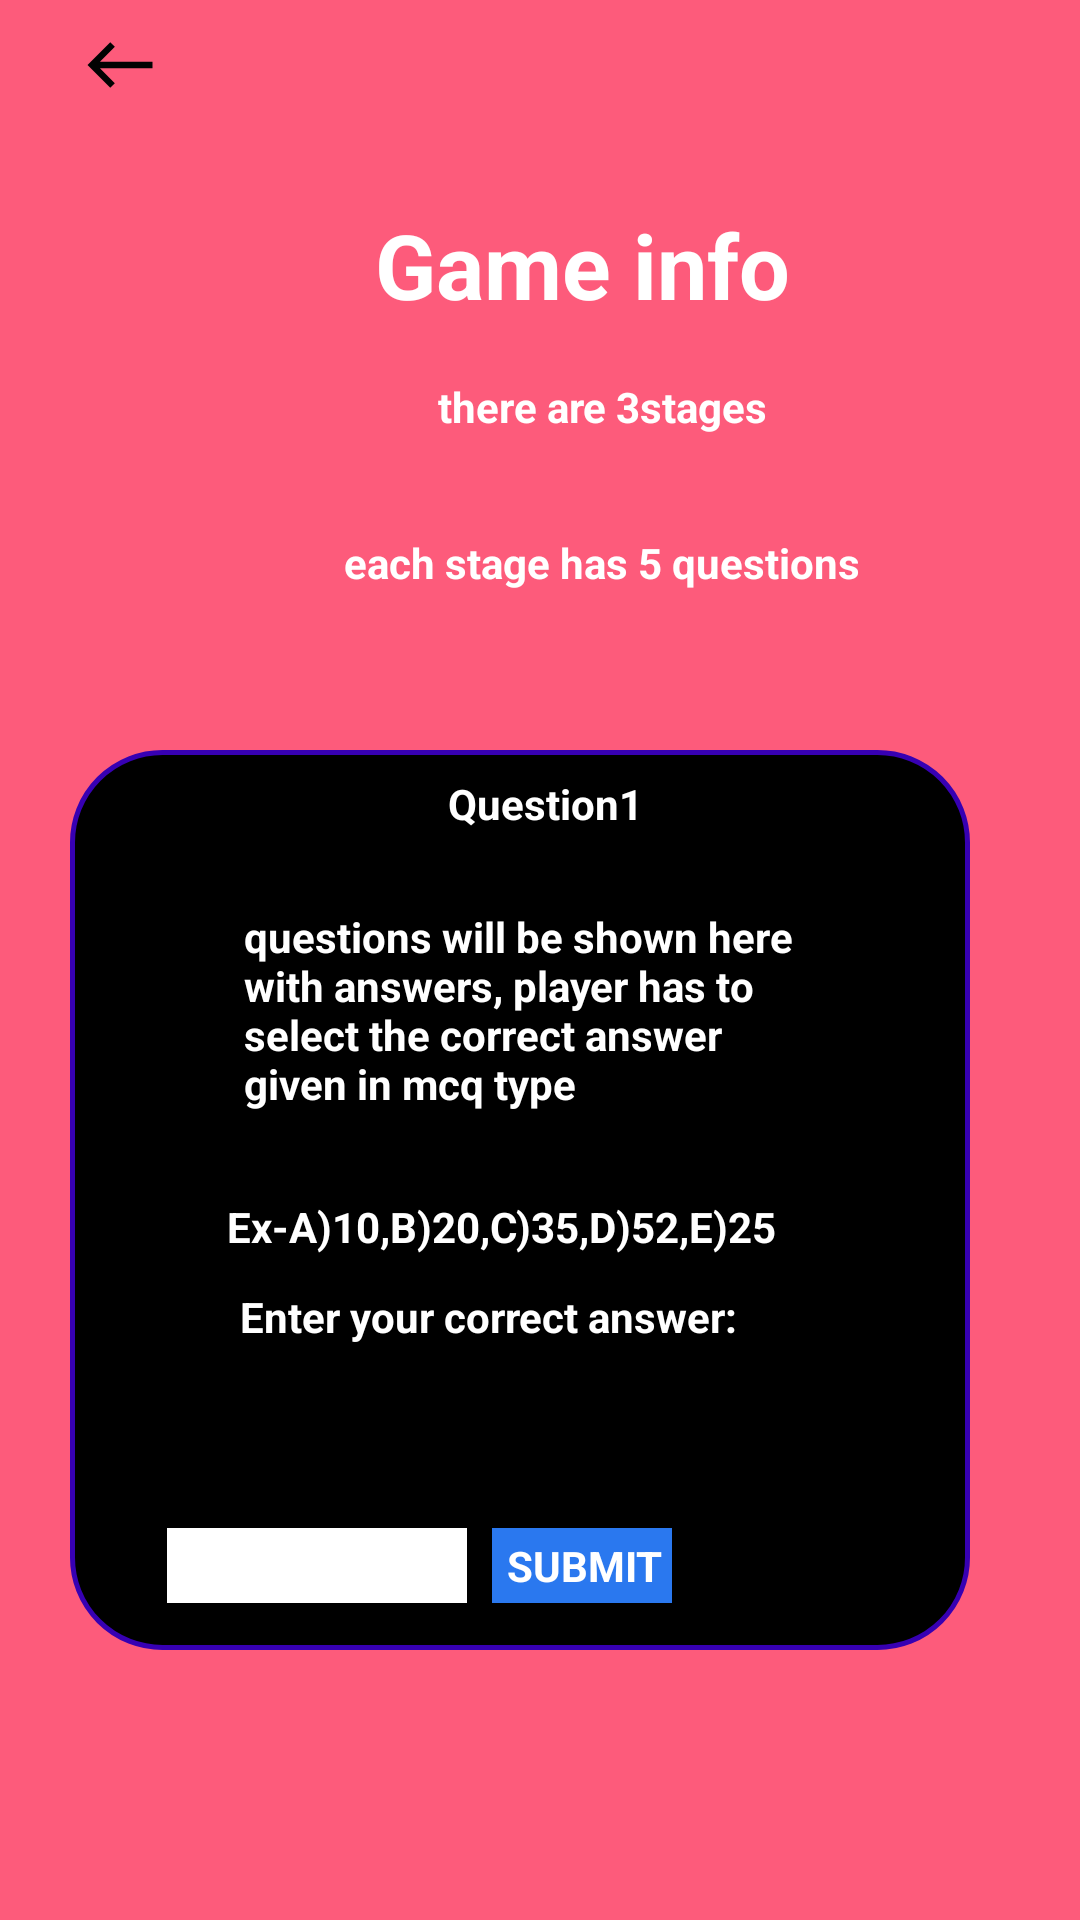

Where icons sit on this 1080*1920 app screen, as (x1, y1, x2, y2):
west: (87, 42, 153, 88)
